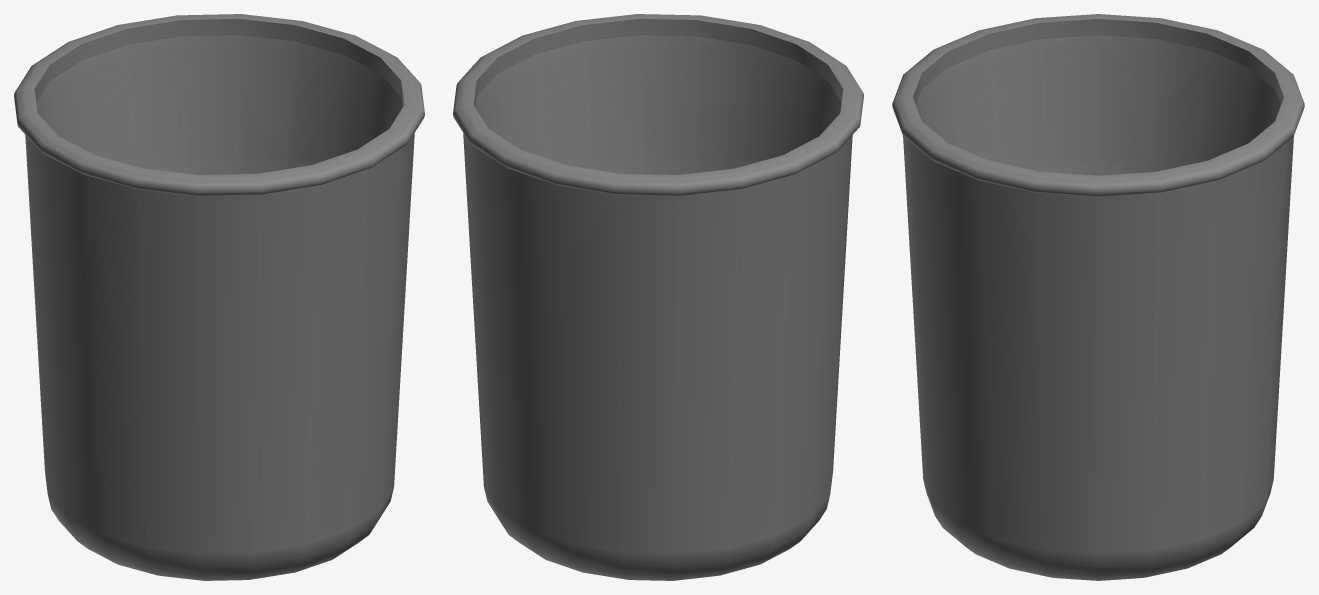
File: gomibako-cylinder.fbx
3 renders of one model, left to right at view 1: azimuth 30°, elevation 25°; view 2: azimuth 150°, elevation 25°; view 3: azimuth 270°, elevation 25°, orthographic.
Parts seen in each view (by area): view 1: gomibako_cylinder; view 2: gomibako_cylinder; view 3: gomibako_cylinder.
Boxes of the visible parts, box(x1,y1,x2,y2) form: gomibako_cylinder: box(14, 14, 424, 580); gomibako_cylinder: box(453, 14, 863, 580); gomibako_cylinder: box(892, 14, 1304, 580).
Bounding box in the file's own units: 3.4 × 3.89 × 3.4.
Materials: 1 (1 with a texture image).
